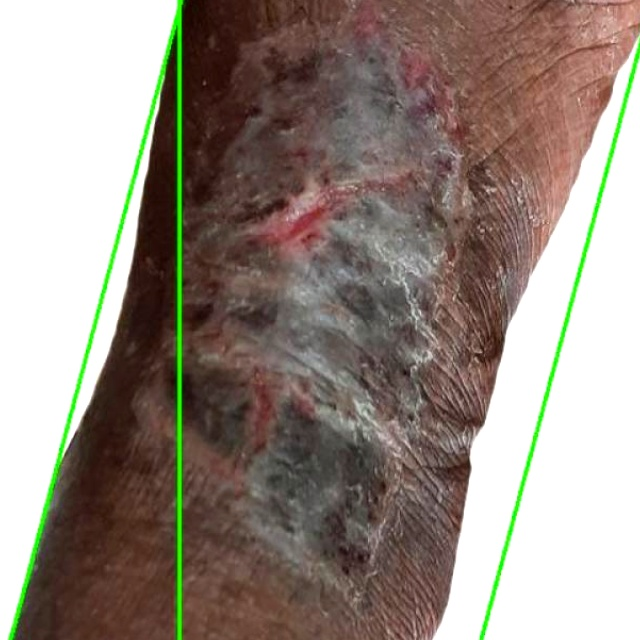Eczema: (9, 0, 639, 639), (0, 0, 179, 639)
